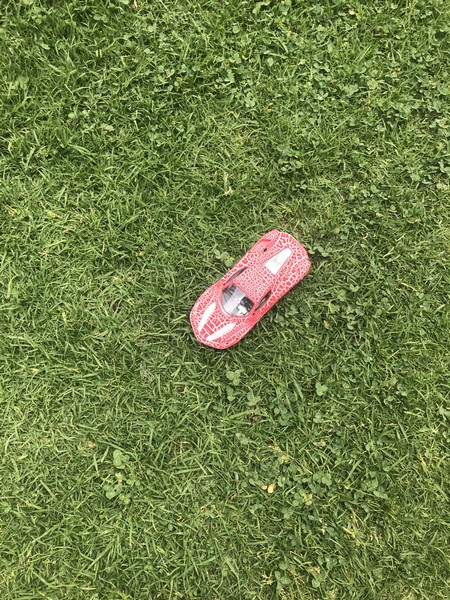RC: (187, 228, 315, 351)
